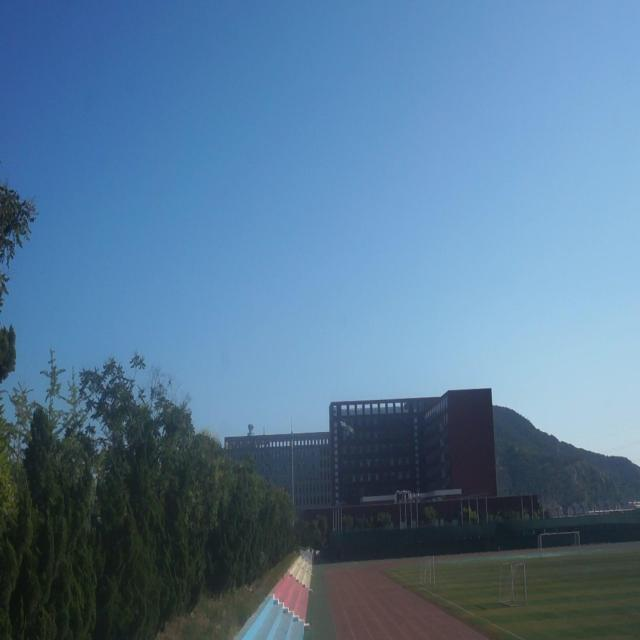drone: (339, 419, 353, 436)
